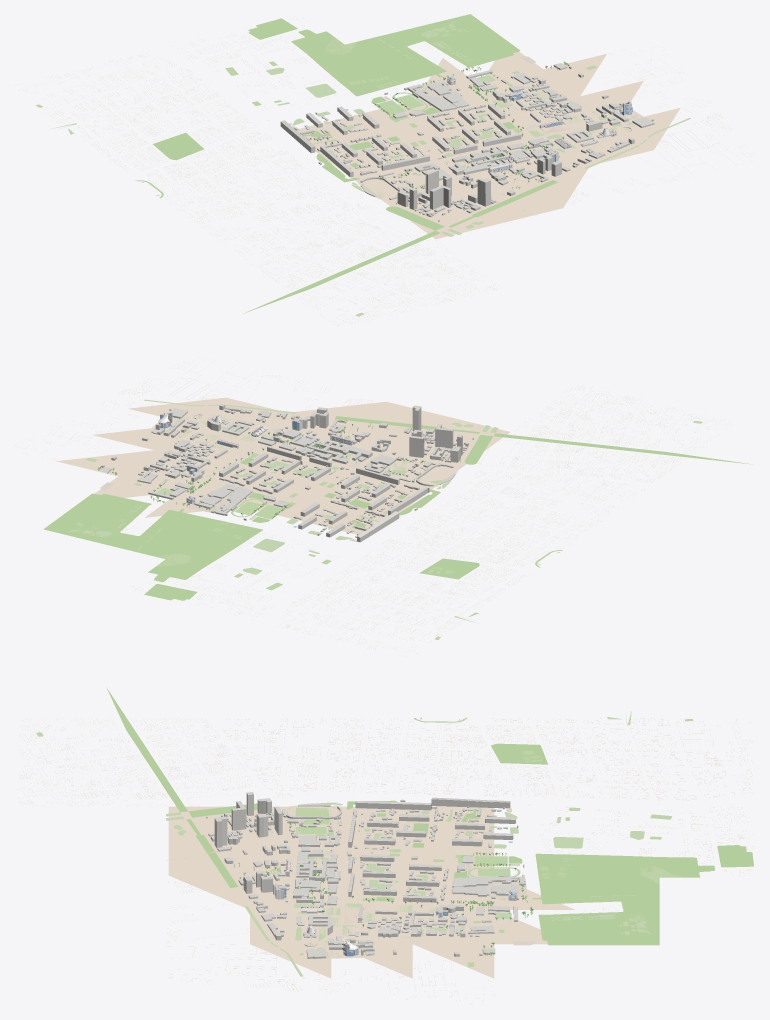
Rendered from campus.glb.
3 renders of one model, top to bottom at view 1: azimuth 30°, elevation 25°; view 2: azimuth 150°, elevation 25°; view 3: azimuth 270°, elevation 25°, orthographic. The views are drawn at different scales.
Visible parts, largest first — view 1: base, areas, buildings, models, trees; view 2: base, areas, buildings, models, trees; view 3: base, areas, buildings, models, trees.
Boxes of the visible parts, <box> form: base: <box>14,18,751,326</box>; areas: <box>36,14,708,316</box>; buildings: <box>280,63,654,221</box>; models: <box>447,76,632,173</box>; trees: <box>373,61,653,204</box>; base: <box>15,356,732,657</box>; areas: <box>43,393,750,639</box>; buildings: <box>100,404,473,542</box>; models: <box>158,412,353,503</box>; trees: <box>97,409,460,518</box>; base: <box>17,717,754,1004</box>; areas: <box>36,687,753,984</box>; buildings: <box>206,792,525,958</box>; models: <box>273,859,517,956</box>; trees: <box>234,821,533,958</box>.
Size of the model in its own units: 2367 by 93.12 by 2325.
